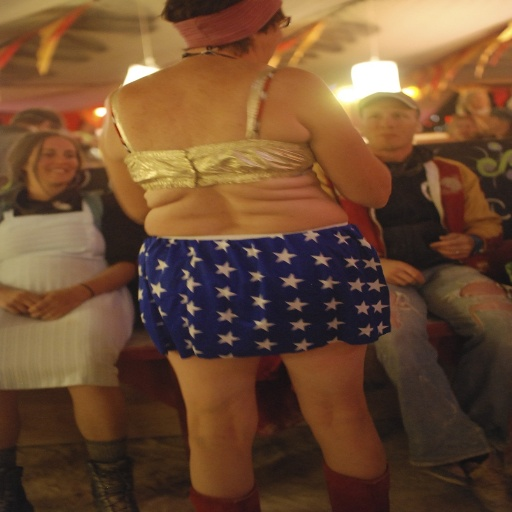hand: (24, 288, 80, 319), (376, 256, 425, 285), (428, 232, 475, 259), (0, 287, 43, 314)
